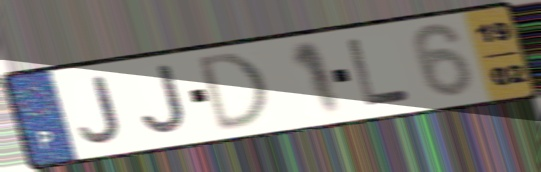1: (288, 38, 348, 120)
6: (408, 20, 482, 102)
D: (196, 49, 275, 136)
J: (138, 62, 192, 138), (76, 73, 125, 146)
L: (344, 36, 415, 109)
